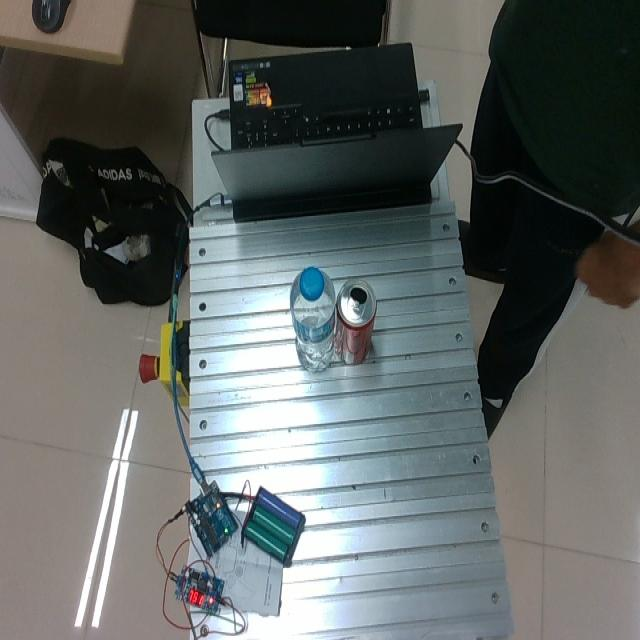coca: (333, 276, 377, 365)
lavie: (289, 266, 336, 374)
